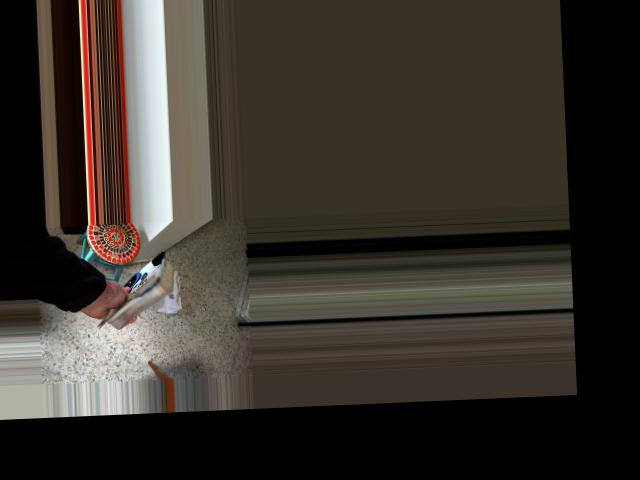cheese: (80, 238, 190, 340)
